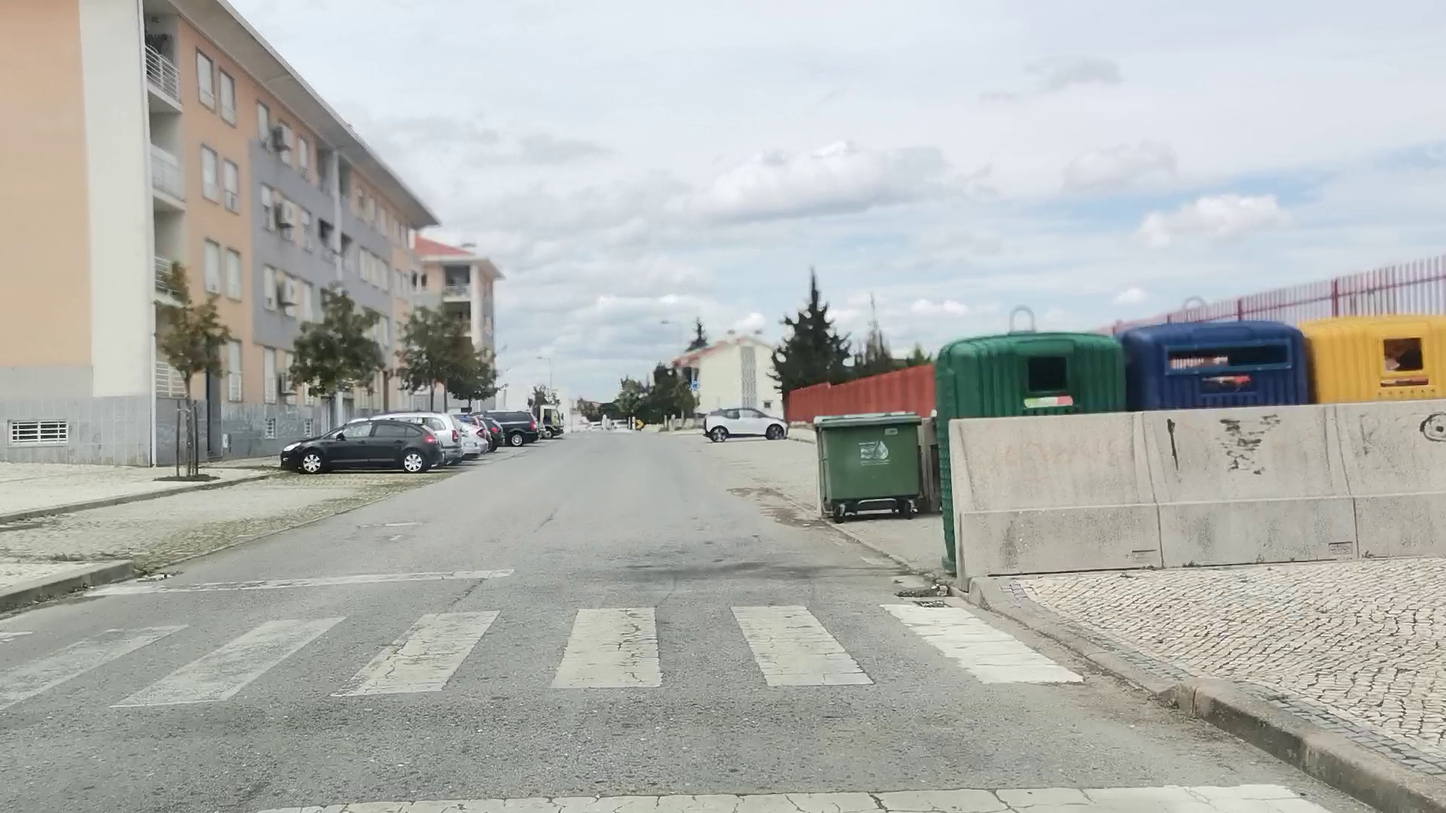Stairs: (0, 597, 1091, 705)
